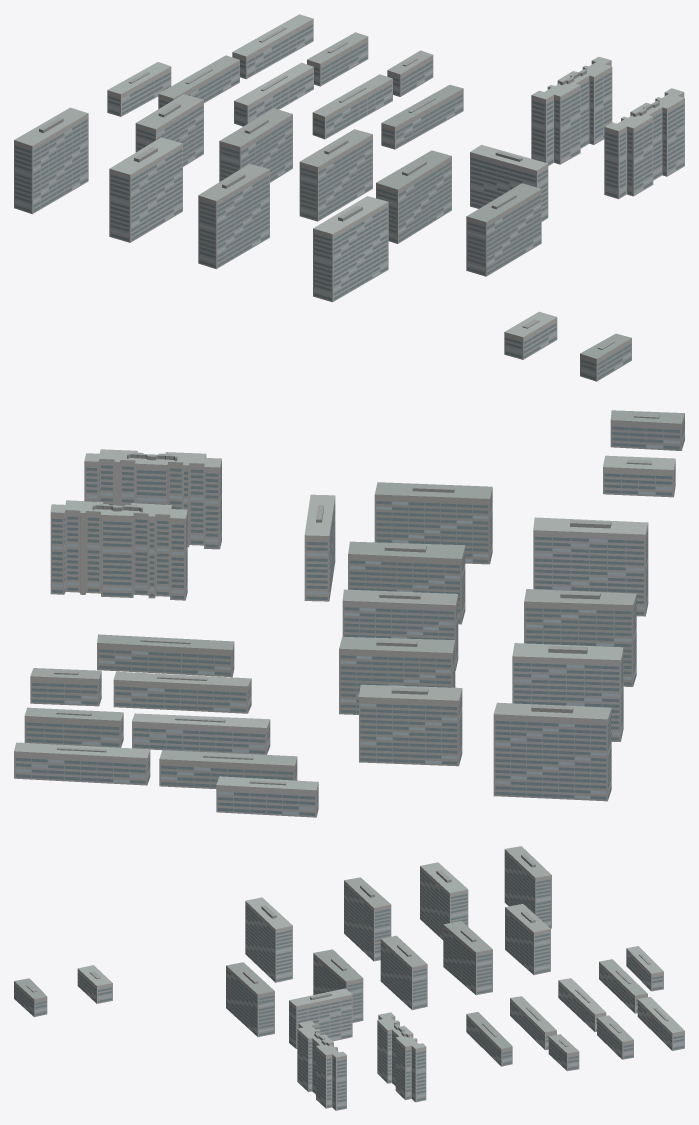
The model's file is apt-a15807705.glb.
3 views of the same model, one above another, from view 1: azimuth 30°, elevation 25°; view 2: azimuth 150°, elevation 25°; view 3: azimuth 270°, elevation 25° (orthographic). The views are drawn at different scales.
Parts seen in each view (by area): view 1: apt-a15807705; view 2: apt-a15807705; view 3: apt-a15807705.
Boxes of the visible parts, box(x1,y1,x2,y2) form: apt-a15807705: box(14, 14, 684, 381); apt-a15807705: box(14, 410, 684, 817); apt-a15807705: box(14, 846, 684, 1110).
Bounding box in the file's own units: 388 × 47.81 × 521.
